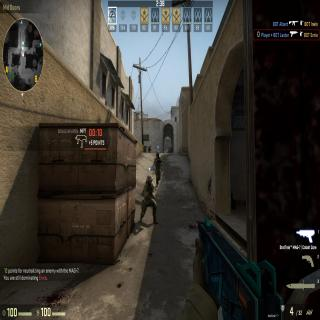CT-Body: (140, 174, 156, 224), (155, 150, 161, 188), (148, 145, 151, 153)
CT-Head: (145, 173, 153, 187), (156, 150, 160, 158)
